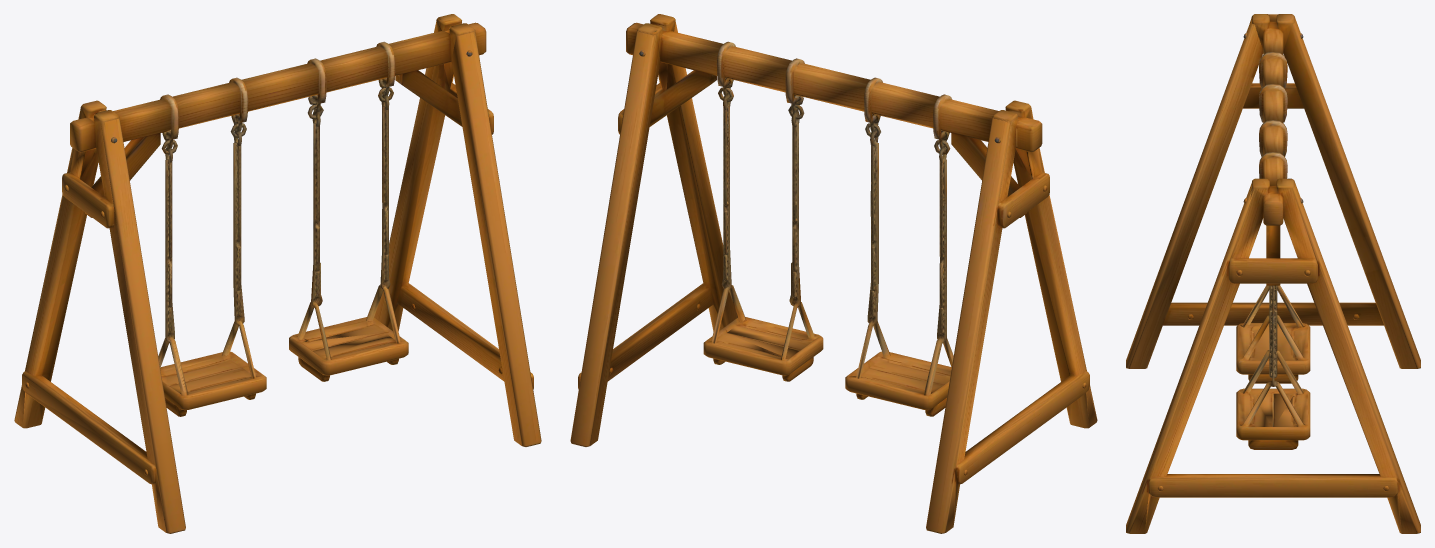
The model's file is a_wooden_swing_set_11904fb3_v1.glb.
3 renders of one model, left to right at view 1: azimuth 30°, elevation 25°; view 2: azimuth 150°, elevation 25°; view 3: azimuth 270°, elevation 25°, orthographic. The views are drawn at different scales.
Parts seen in each view (by area): view 1: material; view 2: material; view 3: material.
Boxes of the visible parts, x1,y1,x2,y2 form: material: [14, 14, 541, 533]; material: [570, 14, 1097, 533]; material: [1126, 14, 1420, 533].
Size of the model in its own units: 1.9 by 1.63 by 1.26.
1 material, 1 textured.
